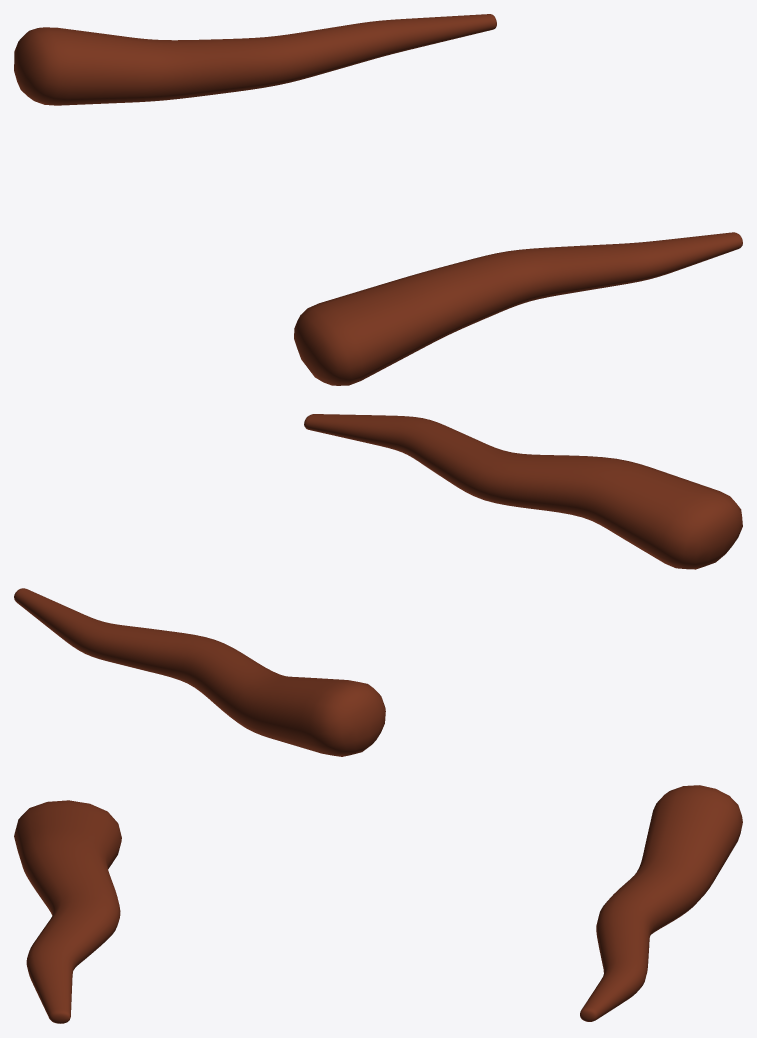
File: normal-wurzel.fbx
3 renders of one model, top to bottom at view 1: azimuth 30°, elevation 25°; view 2: azimuth 150°, elevation 25°; view 3: azimuth 270°, elevation 25°, orthographic. The views are drawn at different scales.
Visible parts, largest first — view 1: Plane_008, Plane_010; view 2: Plane_008, Plane_010; view 3: Plane_010, Plane_008.
Boxes of the visible parts, x1,y1,x2,y2 form: Plane_008: (294, 232, 742, 385); Plane_010: (14, 14, 496, 105); Plane_008: (304, 414, 742, 569); Plane_010: (14, 588, 385, 756); Plane_010: (580, 785, 742, 1021); Plane_008: (14, 800, 121, 1023).
Size of the model in its own units: 10462 by 2211 by 14739.
